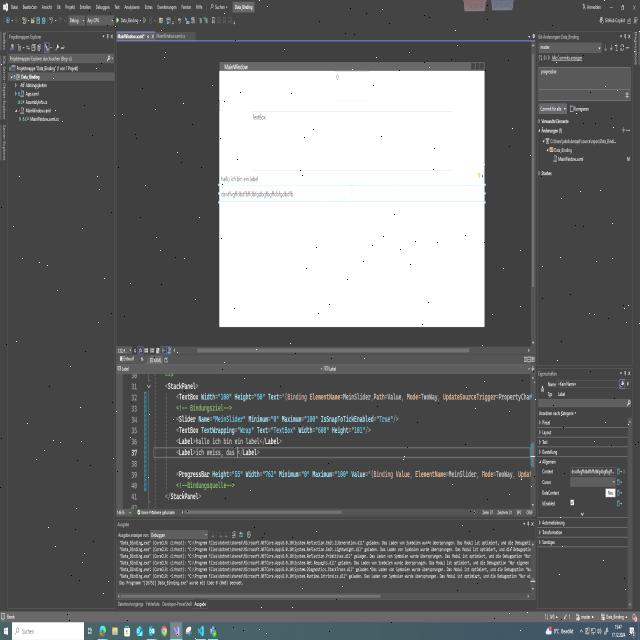checkbox: (570, 498, 575, 507)
dropdownMenu: (554, 626, 583, 635)
icon: (160, 625, 168, 638), (197, 625, 204, 638), (210, 625, 217, 638), (629, 626, 636, 639), (99, 625, 106, 637), (136, 625, 143, 637), (173, 625, 180, 636), (546, 624, 552, 636), (148, 625, 154, 636), (112, 626, 118, 636), (124, 626, 130, 636), (186, 626, 192, 636), (584, 626, 590, 636), (4, 626, 9, 636), (597, 627, 602, 635), (604, 627, 609, 635), (88, 627, 92, 635), (592, 628, 596, 636)
input: (251, 105, 455, 171), (332, 70, 374, 103), (12, 622, 84, 640)
menu: (0, 620, 637, 640)
